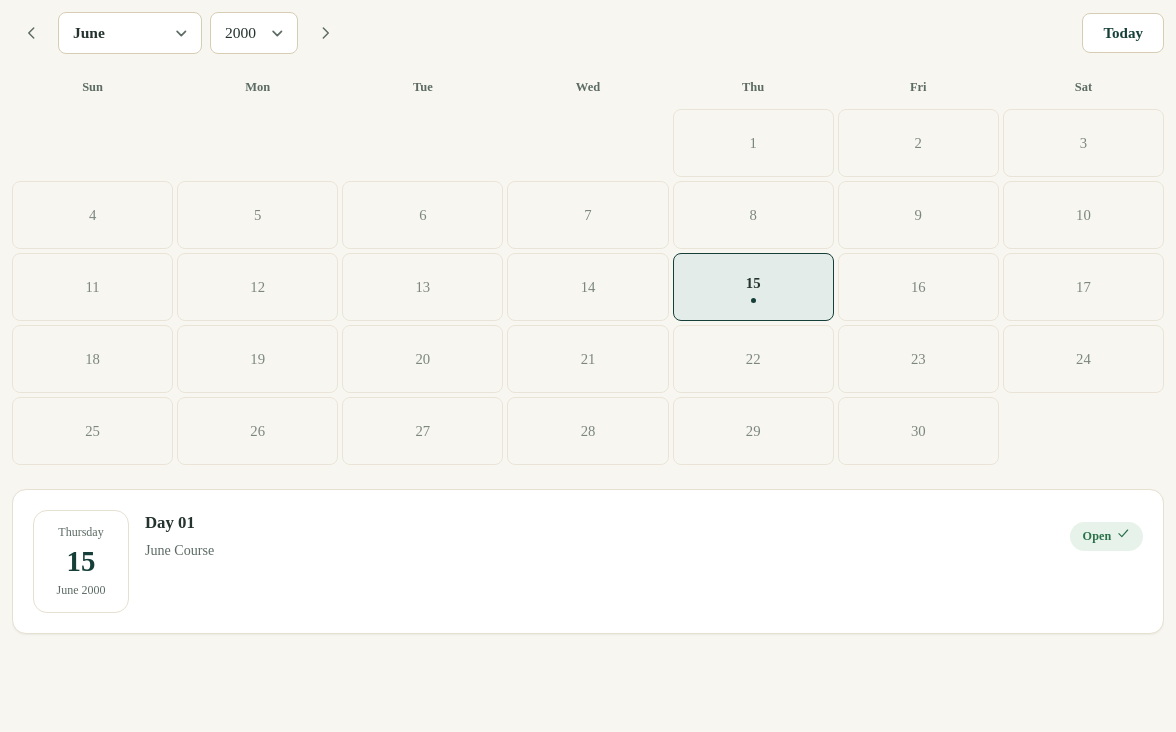
Test: TrainingDaysCalendar › 'Today' jumps the visible month back to the real current month
Expected: the dropdown named "Month" reads "June", [58,12,202,54]
Expected: the dropdown named "Year" reads "2000", [210,12,298,54]
Step 1. Click the button "Today" → (1123, 33), box [1082,13,1164,53]
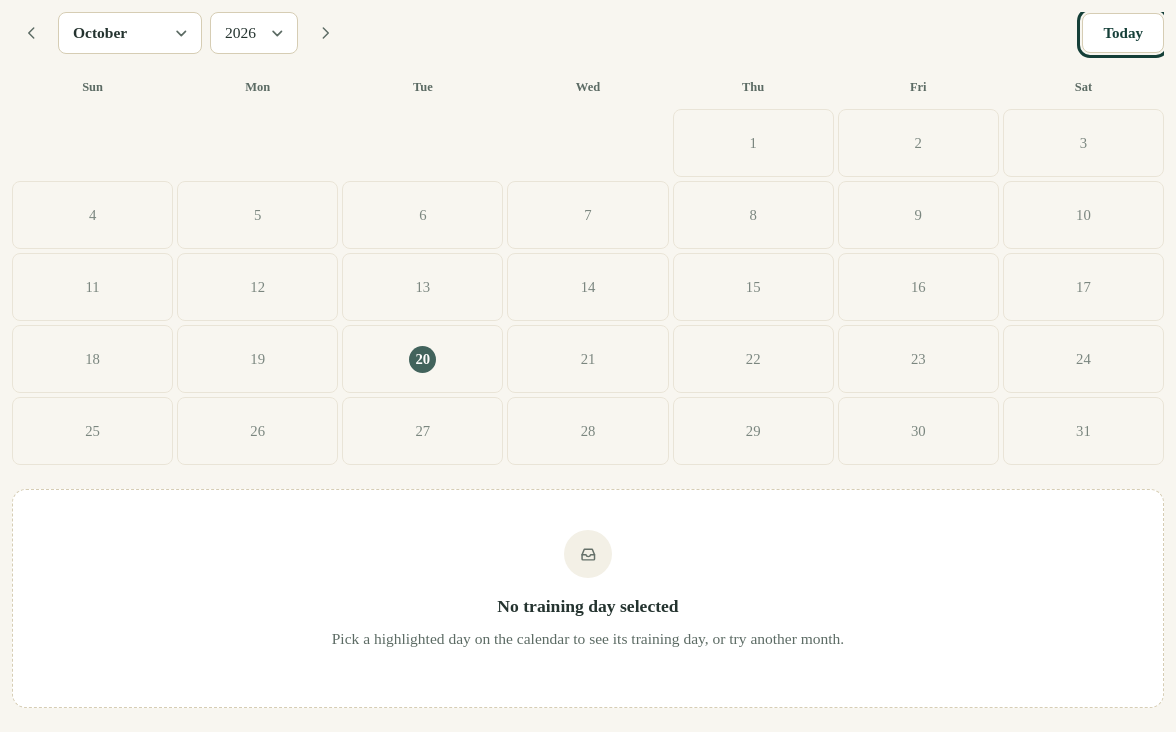
Result: the dropdown named "Month" reads "October" at [58,12,202,54]
Result: the dropdown named "Year" reads "2026" at [210,12,298,54]
